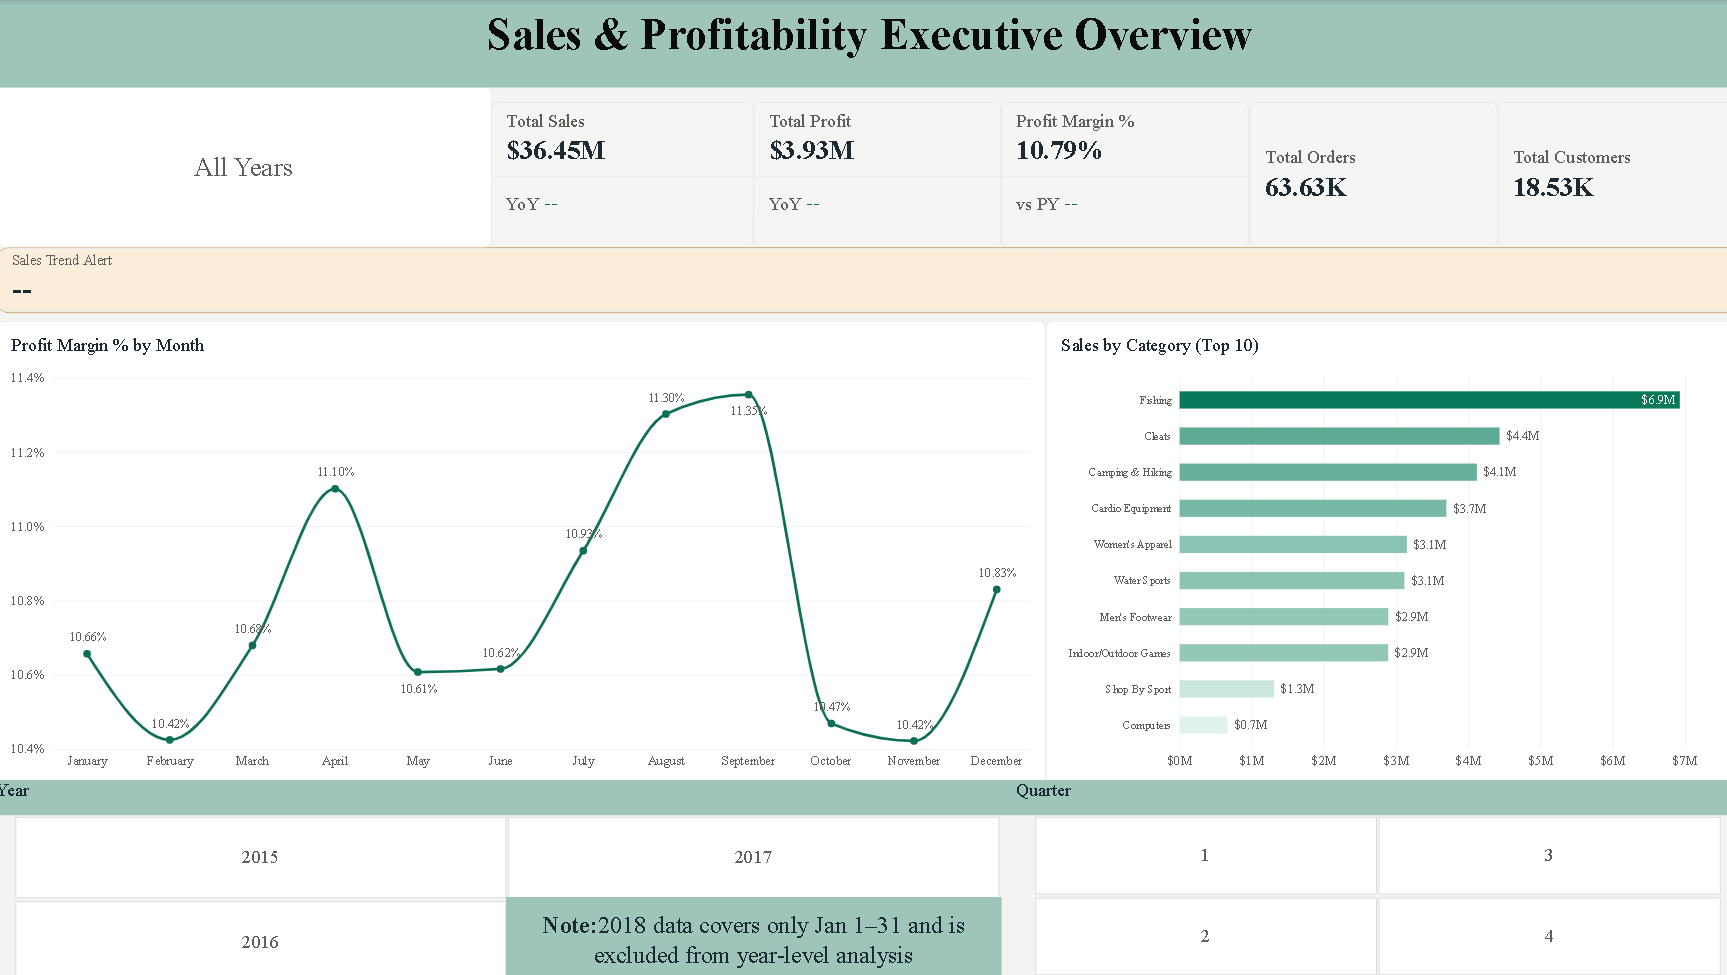

The page's visual inventory and layout, read from the dashboard file:
{"tool":"powerbi","page":{"name":"Executive Overview","canvas":[1920,1080],"ordinal":0},"visuals":[{"type":"cardVisual","fields":{"Data":["_Measures.Total Sales"]},"box":[544,112,288,160],"z":0,"group":"g1"},{"type":"group","id":"g1","title":"Group 2","box":[544,112,832,160],"z":0},{"type":"cardVisual","fields":{"Data":["_Measures.Total Profit"]},"box":[832,112,272,160],"z":1000,"group":"g1"},{"type":"cardVisual","fields":{"Data":["_Measures.Total Orders"]},"box":[1376,112,272,160],"z":1000},{"type":"cardVisual","fields":{"Data":["_Measures.Profit Margin %"]},"box":[1104,112,272,160],"z":2000,"group":"g1"},{"type":"cardVisual","fields":{"Data":["_Measures.Total Customers"]},"box":[1648,112,272,160],"z":2000},{"type":"cardVisual","fields":{"Data":["_Measures.Sales Trend Alert"]},"box":[0,272,1920,72],"z":3000},{"type":"lineChart","title":"Profit Margin % by Month","fields":{"Category":["gold dim_date.month_name"],"Y":["_Measures.Profit Margin %"]},"box":[0,352,1152,512],"z":4000},{"type":"barChart","title":"Sales by Category (Top 10)","fields":{"Category":["gold dim_product.category_name"],"Y":["_Measures.Total Sales"]},"box":[1152,352,768,512],"z":5000},{"type":"slicer","title":"Year","fields":{"Values":["gold dim_date.year"]},"box":[0,856,1120,224],"z":5000,"group":"g2"},{"type":"slicer","title":"Quarter","fields":{"Values":["gold dim_date.quarter"]},"box":[1120,856,792,216],"z":6000},{"type":"textbox","box":[560,984,544,96],"z":6001,"group":"g2"},{"type":"group","id":"g2","title":"Group 1","box":[0,856,1120,224],"z":7000},{"type":"card","fields":{"Values":["_Measures.Page Subtitle"]},"box":[0,96,544,176],"z":8000},{"type":"textbox","box":[0,0,1920,96],"z":9001}]}

Visuals, with their boxes in screenshot pixels (x1, y1, x2, y2), scaled from the page's 1920x1080 canvas onto the 1727x975 screenshot:
cardVisual - _Measures.Total Sales: bbox=(489, 101, 748, 246)
"Group 2" group: bbox=(489, 101, 1238, 246)
cardVisual - _Measures.Total Profit: bbox=(748, 101, 993, 246)
cardVisual - _Measures.Total Orders: bbox=(1238, 101, 1482, 246)
cardVisual - _Measures.Profit Margin %: bbox=(993, 101, 1238, 246)
cardVisual - _Measures.Total Customers: bbox=(1482, 101, 1726, 246)
cardVisual - _Measures.Sales Trend Alert: bbox=(0, 246, 1726, 311)
"Profit Margin % by Month" lineChart: bbox=(0, 318, 1036, 780)
"Sales by Category (Top 10)" barChart: bbox=(1036, 318, 1726, 780)
"Year" slicer: bbox=(0, 773, 1007, 974)
"Quarter" slicer: bbox=(1007, 773, 1720, 968)
textbox: bbox=(504, 888, 993, 974)
"Group 1" group: bbox=(0, 773, 1007, 974)
card - _Measures.Page Subtitle: bbox=(0, 87, 489, 246)
textbox: bbox=(0, 0, 1726, 87)
